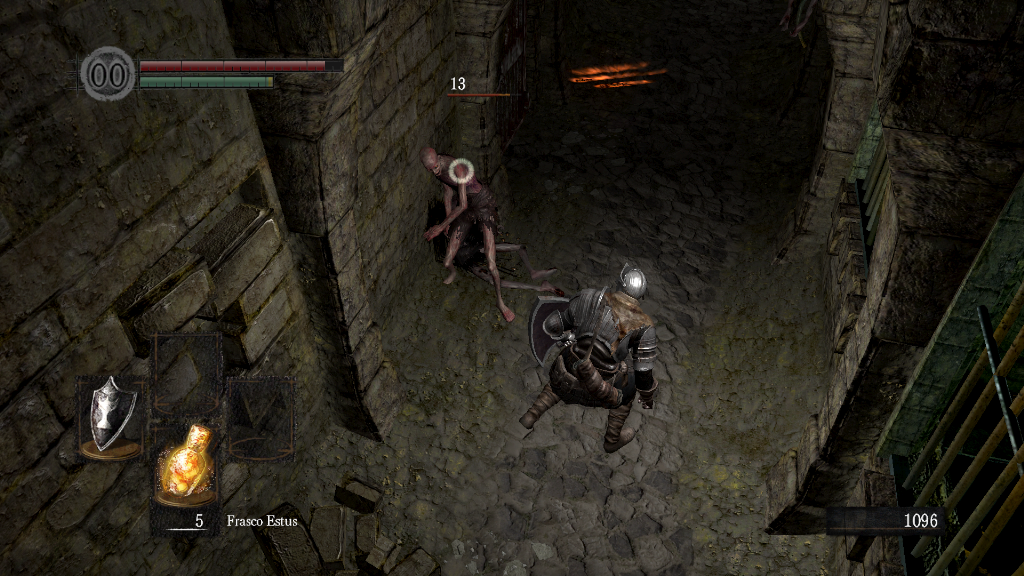health: (138, 58, 343, 71)
hollow: (420, 146, 515, 329)
humanity: (80, 45, 136, 102)
player: (519, 261, 661, 453)
souls: (825, 506, 945, 536)
stamina: (138, 74, 274, 88)
